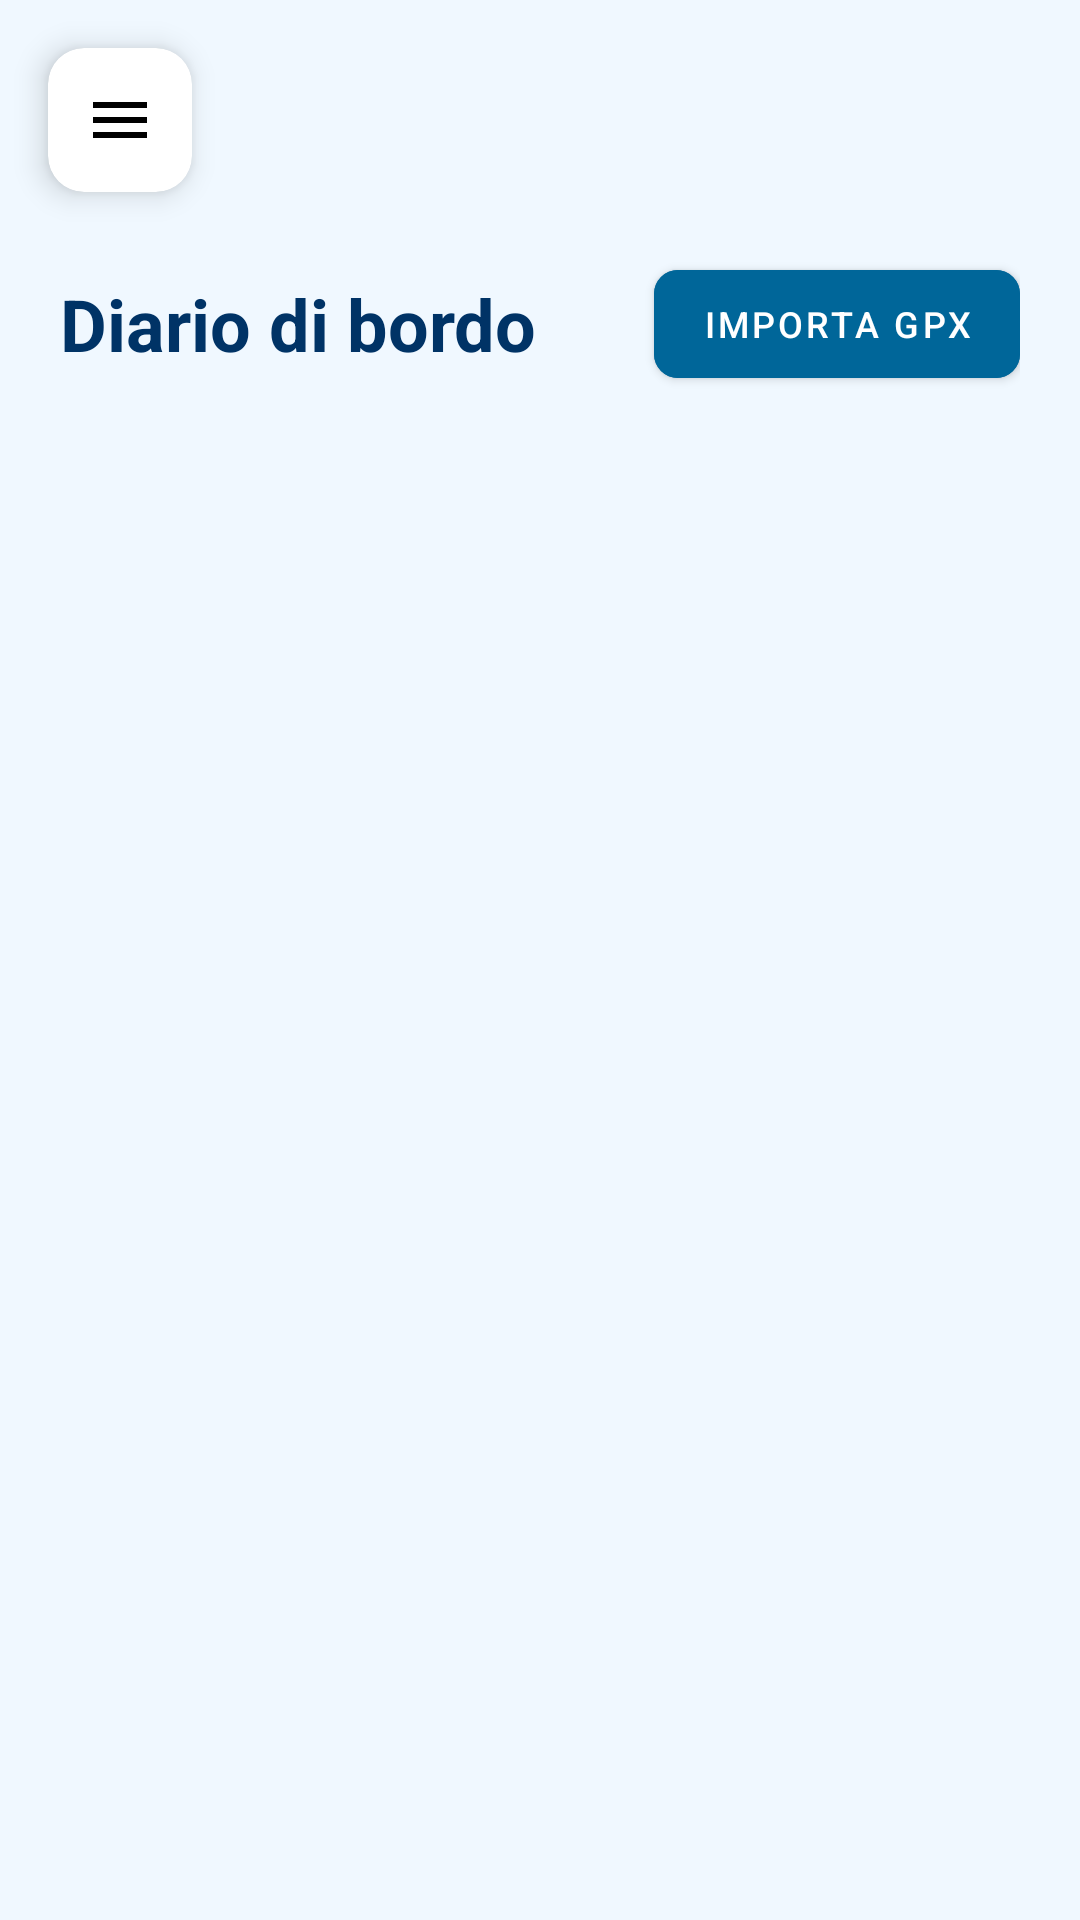

Icon click points for this 1080w x 1920h phone screenshot, format [x,y]:
Apri Menu: [120,120]
